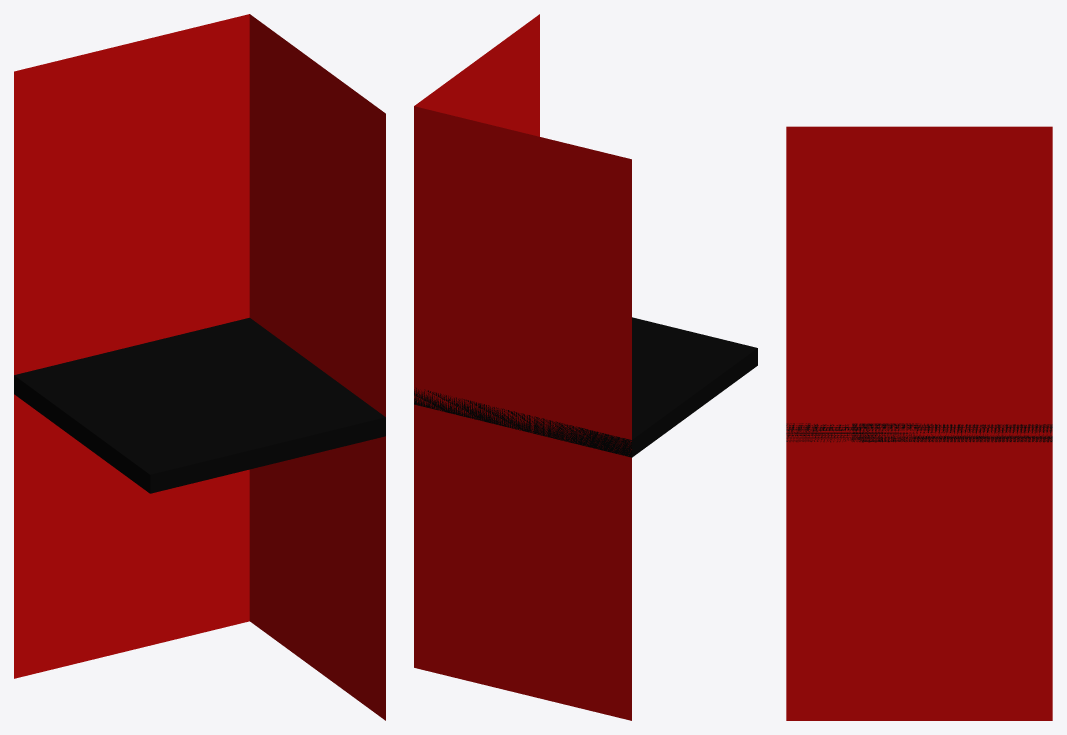
The picture shows the model from 3 angles, left to right: view 1: azimuth 30°, elevation 25°; view 2: azimuth 150°, elevation 25°; view 3: azimuth 270°, elevation 25°; orthographic projection. The views are drawn at different scales.
Visible parts, largest first — view 1: None_A_A_A_A_A_P_A_E_None; view 2: None_A_A_A_A_A_P_A_E_None; view 3: None_A_A_A_A_A_P_A_E_None.
Boxes of the visible parts, box(x1,y1,x2,y2) form: None_A_A_A_A_A_P_A_E_None: box(14, 14, 385, 720); None_A_A_A_A_A_P_A_E_None: box(414, 14, 757, 720); None_A_A_A_A_A_P_A_E_None: box(786, 126, 1052, 720).
Bounding box in the file's own units: 40.62 × 100 × 40.62.
